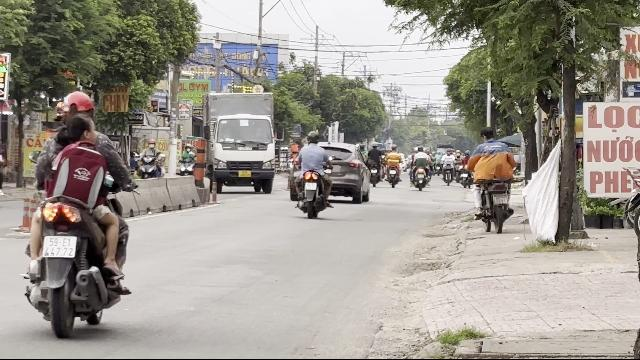helmet: (59, 90, 95, 120)
licenseplate: (42, 235, 76, 257), (492, 193, 508, 203)
motorcyclist: (18, 87, 134, 335), (468, 126, 516, 232)
nohelmet: (64, 115, 96, 144), (480, 126, 496, 140)
